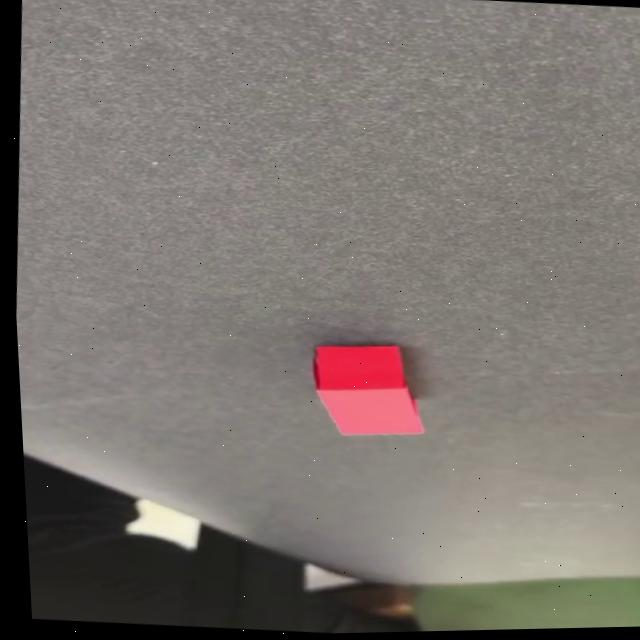red block: (305, 338, 430, 443)
